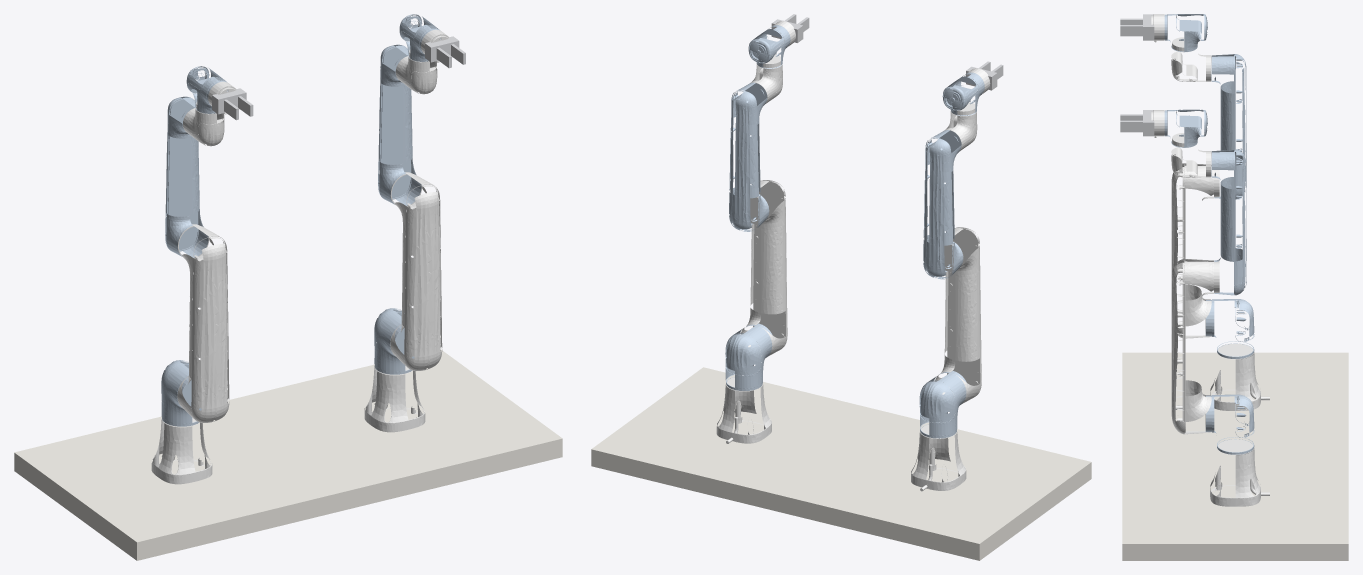
File: nova5.glb
The picture shows the model from 3 angles, left to right: view 1: azimuth 30°, elevation 25°; view 2: azimuth 150°, elevation 25°; view 3: azimuth 270°, elevation 25°; orthographic projection. The views are drawn at different scales.
Visible parts, largest first — view 1: platform, R_J2, L_J2, L_J3, R_J3, R_BASE, L_BASE, R_J1, L_J1, R_J4, L_J4, L_J5 (+1 smaller); view 2: platform, L_J2, R_J2, R_J3, L_J3, L_J1, R_J1, L_BASE, R_BASE, R_J5, L_J5, L_J4 (+1 smaller); view 3: platform, R_J2, R_J3, L_J2, L_J3, R_BASE, L_BASE, L_J1, R_J1, R_J5, L_J5, R_J4 (+5 smaller).
Boxes of the visible parts, x1,y1,x2,y2 form: platform: [14, 349, 562, 560]; R_J2: [390, 172, 442, 370]; L_J2: [177, 224, 229, 422]; L_J3: [165, 96, 208, 257]; R_J3: [378, 44, 421, 205]; R_BASE: [364, 366, 425, 432]; L_BASE: [151, 418, 212, 484]; R_J1: [374, 308, 414, 374]; L_J1: [161, 360, 201, 426]; R_J4: [395, 49, 437, 94]; L_J4: [183, 101, 224, 146]; L_J5: [186, 66, 228, 113]; platform: [591, 367, 1091, 560]; L_J2: [935, 227, 981, 403]; R_J2: [741, 180, 787, 356]; R_J3: [729, 82, 769, 231]; L_J3: [923, 130, 963, 279]; L_J1: [919, 371, 966, 438]; R_J1: [725, 323, 772, 390]; L_BASE: [911, 424, 966, 491]; R_BASE: [716, 377, 771, 443]; R_J5: [748, 25, 790, 68]; L_J5: [942, 72, 984, 115]; L_J4: [944, 102, 977, 151]; platform: [1122, 352, 1348, 560]; R_J2: [1171, 259, 1219, 434]; R_J3: [1211, 149, 1246, 295]; L_J2: [1171, 163, 1219, 338]; L_J3: [1211, 54, 1246, 199]; R_BASE: [1210, 439, 1269, 506]; L_BASE: [1210, 343, 1269, 410]; L_J1: [1205, 299, 1254, 358]; R_J1: [1205, 394, 1254, 454]; R_J5: [1164, 109, 1207, 147]; L_J5: [1164, 14, 1207, 52]; R_J4: [1171, 133, 1211, 177].
Size of the model in its own units: 1200 by 1175 by 606.
